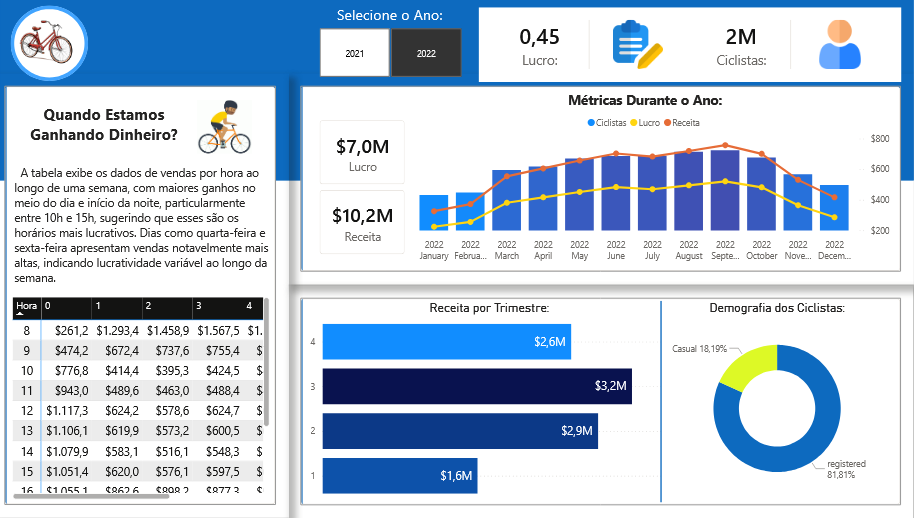

The dashboard page shown, as its layout file describes it:
{"tool":"powerbi","page":{"name":"Page 1","canvas":[1280,720],"ordinal":0},"visuals":[{"type":"shape","box":[10.1,0,1269.9,252],"z":0},{"type":"cardVisual","fields":{"Data":["Sum(Query1.riders)"]},"box":[0,103.3,411.7,616.7],"z":1000},{"type":"cardVisual","fields":{"Data":["Sum(Query1.riders)"]},"box":[411.2,103.8,868.8,292.5],"z":2000},{"type":"cardVisual","fields":{"Data":["Sum(Query1.riders)"]},"box":[410.8,397.5,868.3,322.5],"z":3000},{"type":"cardVisual","fields":{"Data":["Sum(Query1.riders)"]},"box":[216.7,45.6,212.2,187.8],"z":4000},{"type":"pivotTable","fields":{"Values":["Avg(Query1.revenue)"],"Columns":["Query1.weekday"],"Rows":["Query1.hr"]},"box":[23,409,367,291],"z":5000},{"type":"textbox","box":[38.6,140,232.9,67.1],"z":6000},{"type":"textbox","box":[25,224,365,215],"z":7000},{"type":"lineClusteredColumnComboChart","title":"Métricas Durante o Ano:","fields":{"Y":["Sum(Query1.riders)"],"Category":["Query1.dteday.Variation.Date Hierarchy.Year","Query1.dteday.Variation.Date Hierarchy.Month"],"Y2":["Avg(Query1.profit)","Avg(Query1.revenue)"]},"box":[561.8,126.4,689.1,245.5],"z":8000},{"type":"clusteredBarChart","title":"Receita por Trimestre:","fields":{"Category":["Query1.season"],"Y":["Sum(Query1.revenue)"]},"box":[436.7,418.3,507.5,280.8],"z":9000},{"type":"donutChart","title":"Demografia dos Ciclistas:","fields":{"Category":["Query1.rider_type"],"Y":["Sum(Query1.riders)"]},"box":[929.2,418.3,322.5,280],"z":10000},{"type":"shape","box":[897.8,418.9,62.2,280],"z":11000},{"type":"cardVisual","title":"KPI over Time","fields":{"Data":["Sum(Query1.profit)","Sum(Query1.revenue)"]},"box":[437.5,151.2,152.5,220],"z":12000},{"type":"cardVisual","fields":{"Data":["Query1.Profit Margin","Sum(Query1.riders)"]},"box":[675,11.4,587.1,103.6],"z":13000},{"type":"shape","box":[25.3,8.8,107.6,104.7],"z":14000},{"type":"image","box":[0,19.4,150,81.8],"z":15000},{"type":"slicer","title":"Selecione o Ano:","fields":{"Values":["Query1.Years"]},"box":[428.3,6.7,246.7,108.3],"z":16000}]}

Visuals, with their boxes in screenshot pixels (x1, y1, x2, y2), scaled from the page's 1280x720 canvas onto the 914x518 screenshot:
shape: l=7, t=0, r=913, b=181
cardVisual - Sum(Query1.riders): l=0, t=74, r=294, b=517
cardVisual - Sum(Query1.riders): l=294, t=75, r=913, b=285
cardVisual - Sum(Query1.riders): l=293, t=286, r=913, b=517
cardVisual - Sum(Query1.riders): l=155, t=33, r=306, b=168
pivotTable - Avg(Query1.revenue) x Query1.weekday: l=16, t=294, r=278, b=504
textbox: l=28, t=101, r=194, b=149
textbox: l=18, t=161, r=278, b=316
"Métricas Durante o Ano:" lineClusteredColumnComboChart: l=401, t=91, r=893, b=268
"Receita por Trimestre:" clusteredBarChart: l=312, t=301, r=674, b=503
"Demografia dos Ciclistas:" donutChart: l=664, t=301, r=894, b=502
shape: l=641, t=301, r=686, b=503
"KPI over Time" cardVisual: l=312, t=109, r=421, b=267
cardVisual - Query1.Profit Margin x Sum(Query1.riders): l=482, t=8, r=901, b=83
shape: l=18, t=6, r=95, b=82
image: l=0, t=14, r=107, b=73
"Selecione o Ano:" slicer: l=306, t=5, r=482, b=83
